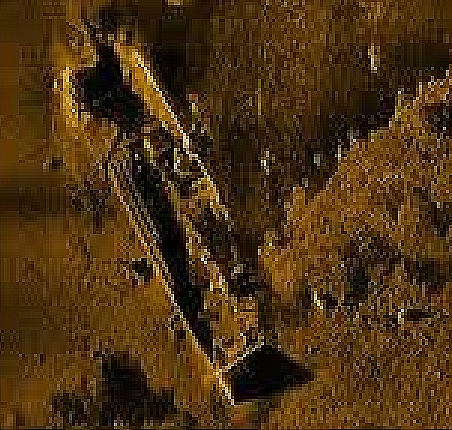ship: (49, 17, 268, 409)
